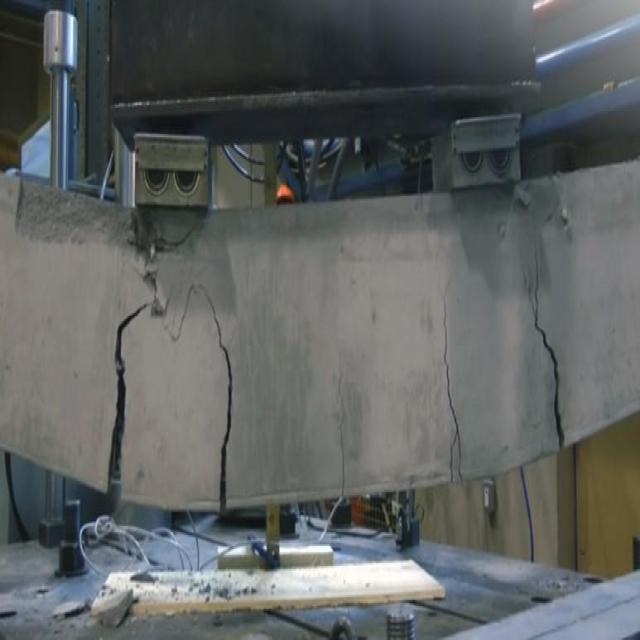crack: (160, 279, 234, 509), (104, 302, 149, 501), (531, 242, 567, 451), (441, 279, 464, 486), (135, 267, 172, 319)
